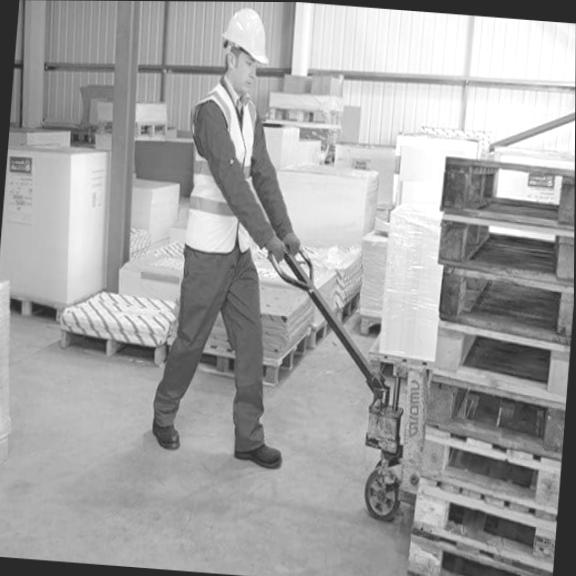safety_vest: (187, 81, 262, 254)
